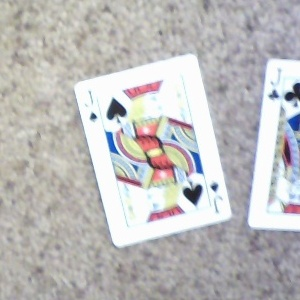card: (68, 53, 232, 247)
